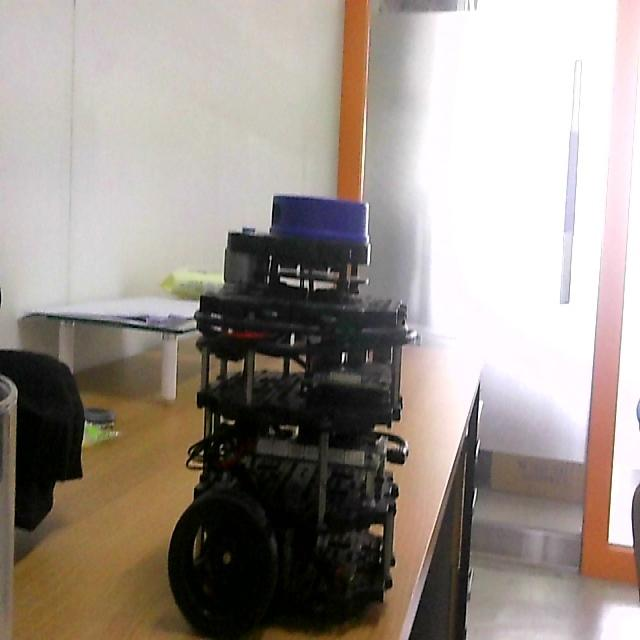turtle: (166, 192, 420, 640)
